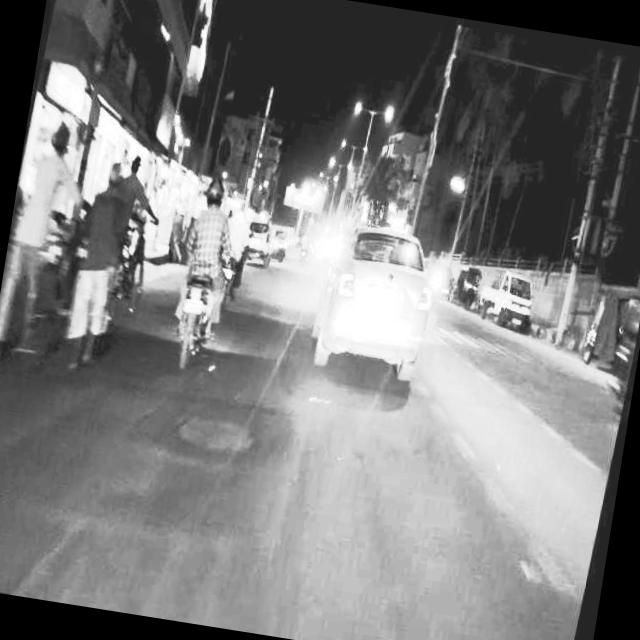Pothole: (178, 407, 252, 460)
